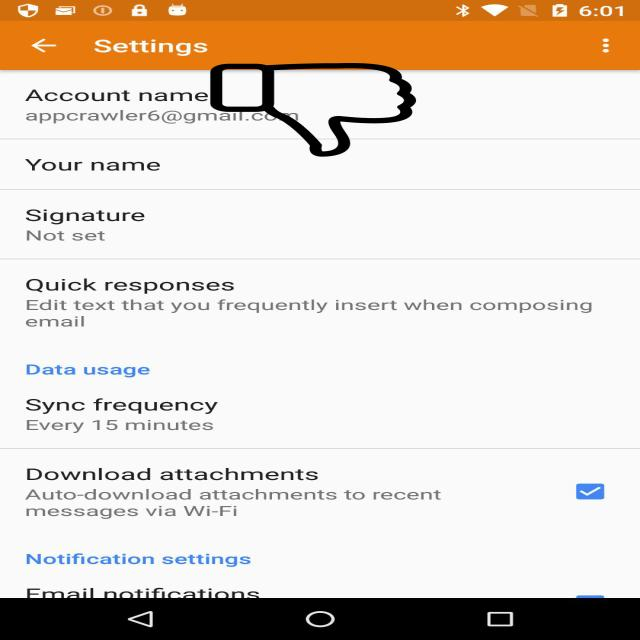obstruction: (207, 63, 419, 157)
